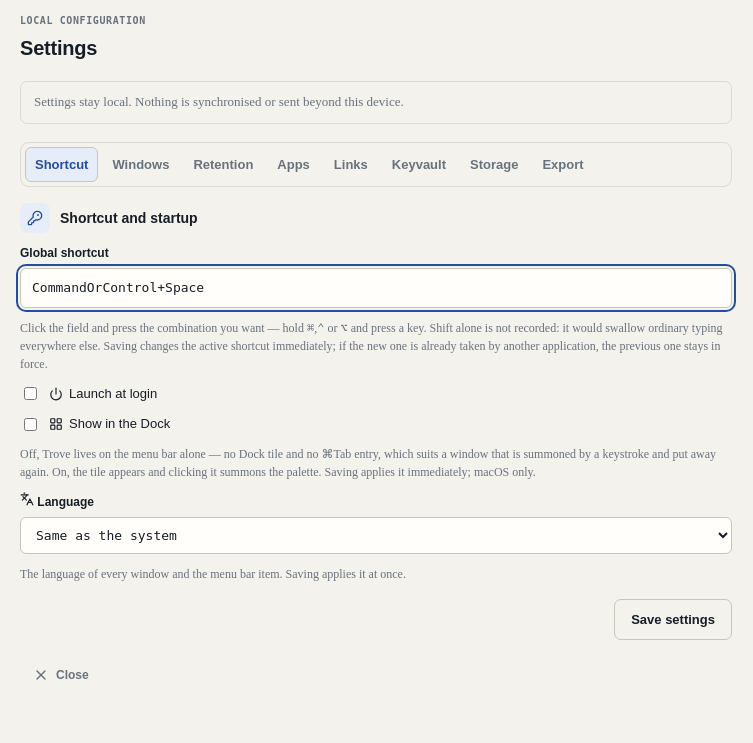
Scenario: keyvault section › tests the connection by listing metadata, and copies without showing a value
Click the tab "Keyvault".
click(419, 165)  # box [382,147,456,182]
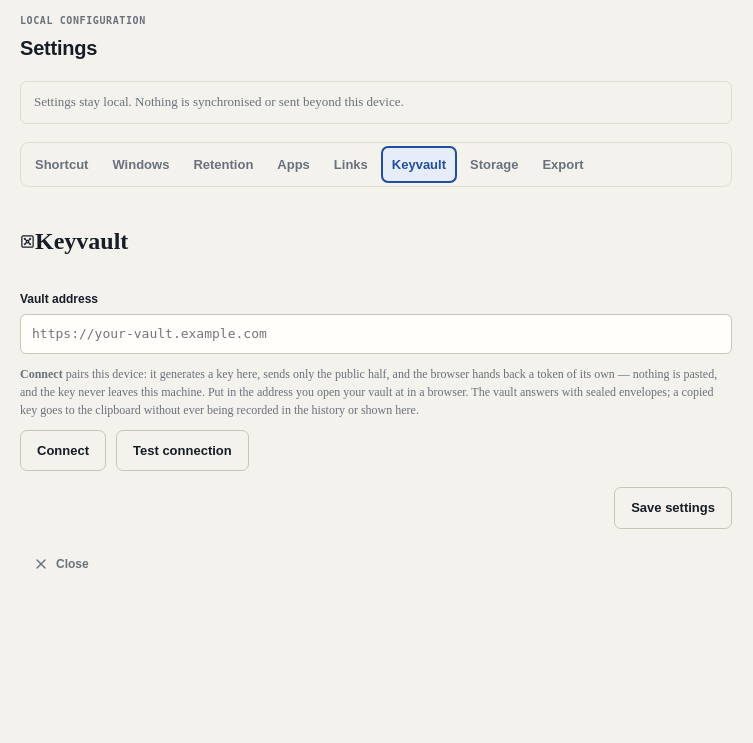
Click the button "Test connection".
click(182, 450)  # box [116,430,249,471]
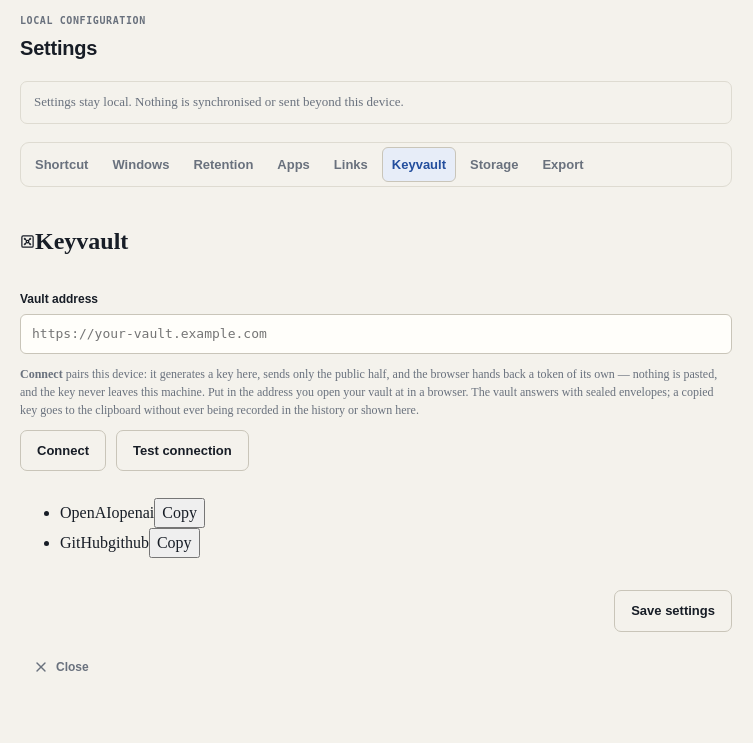
Expected: the number of list items is 2, [60,498,205,528]; [60,528,200,558]
Click the button with aria-label "Copy openai".
click(180, 513)  # box [154,498,205,528]
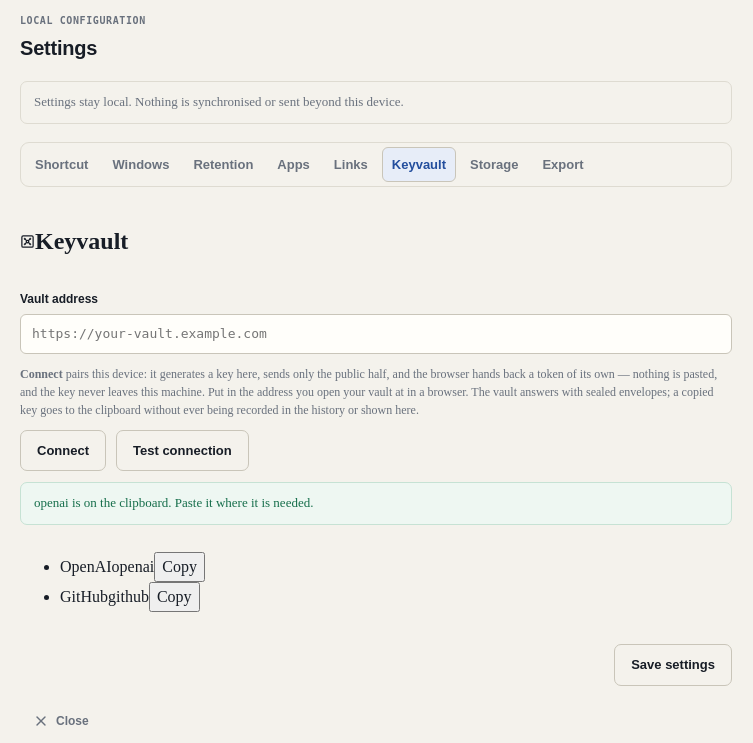
Expected: the text "openai is on the clipboard. Paste it where it is needed." is shown, [20,482,732,525]
